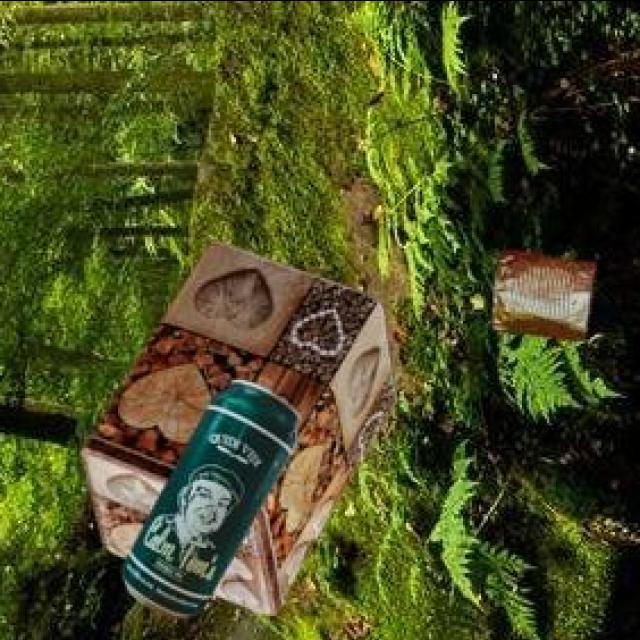logam: (78, 242, 394, 618), (119, 382, 296, 618), (489, 253, 593, 342)
